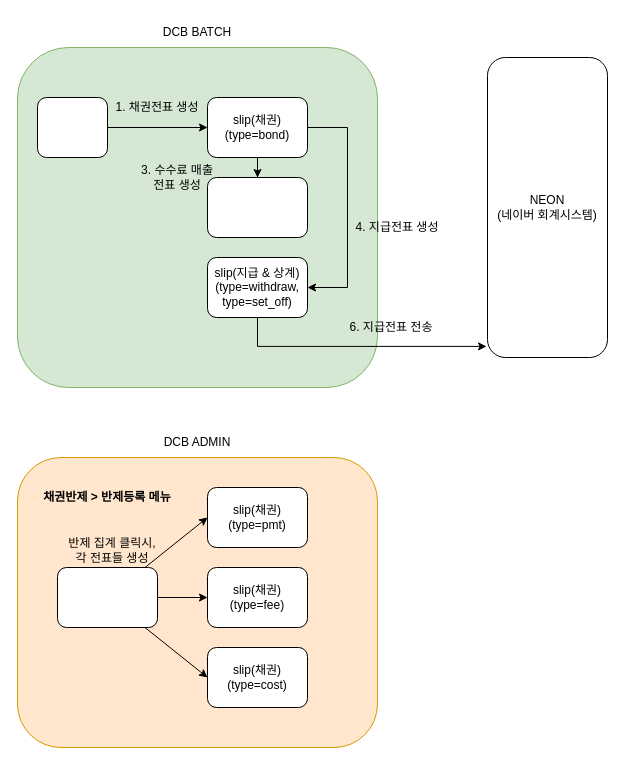
Image size: 625x765. Some labels were removed from this diagram. Here are the shapes that lost their labels. From the top down, the centre of each, then its label:
the point at 72,127: trad(거래)
the point at 257,207: slip(수수료매출) (type=fee_sales)
the point at 107,597: setl(정산)
